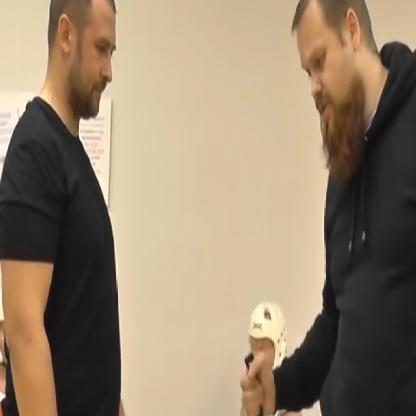knife: (238, 345, 279, 415)
